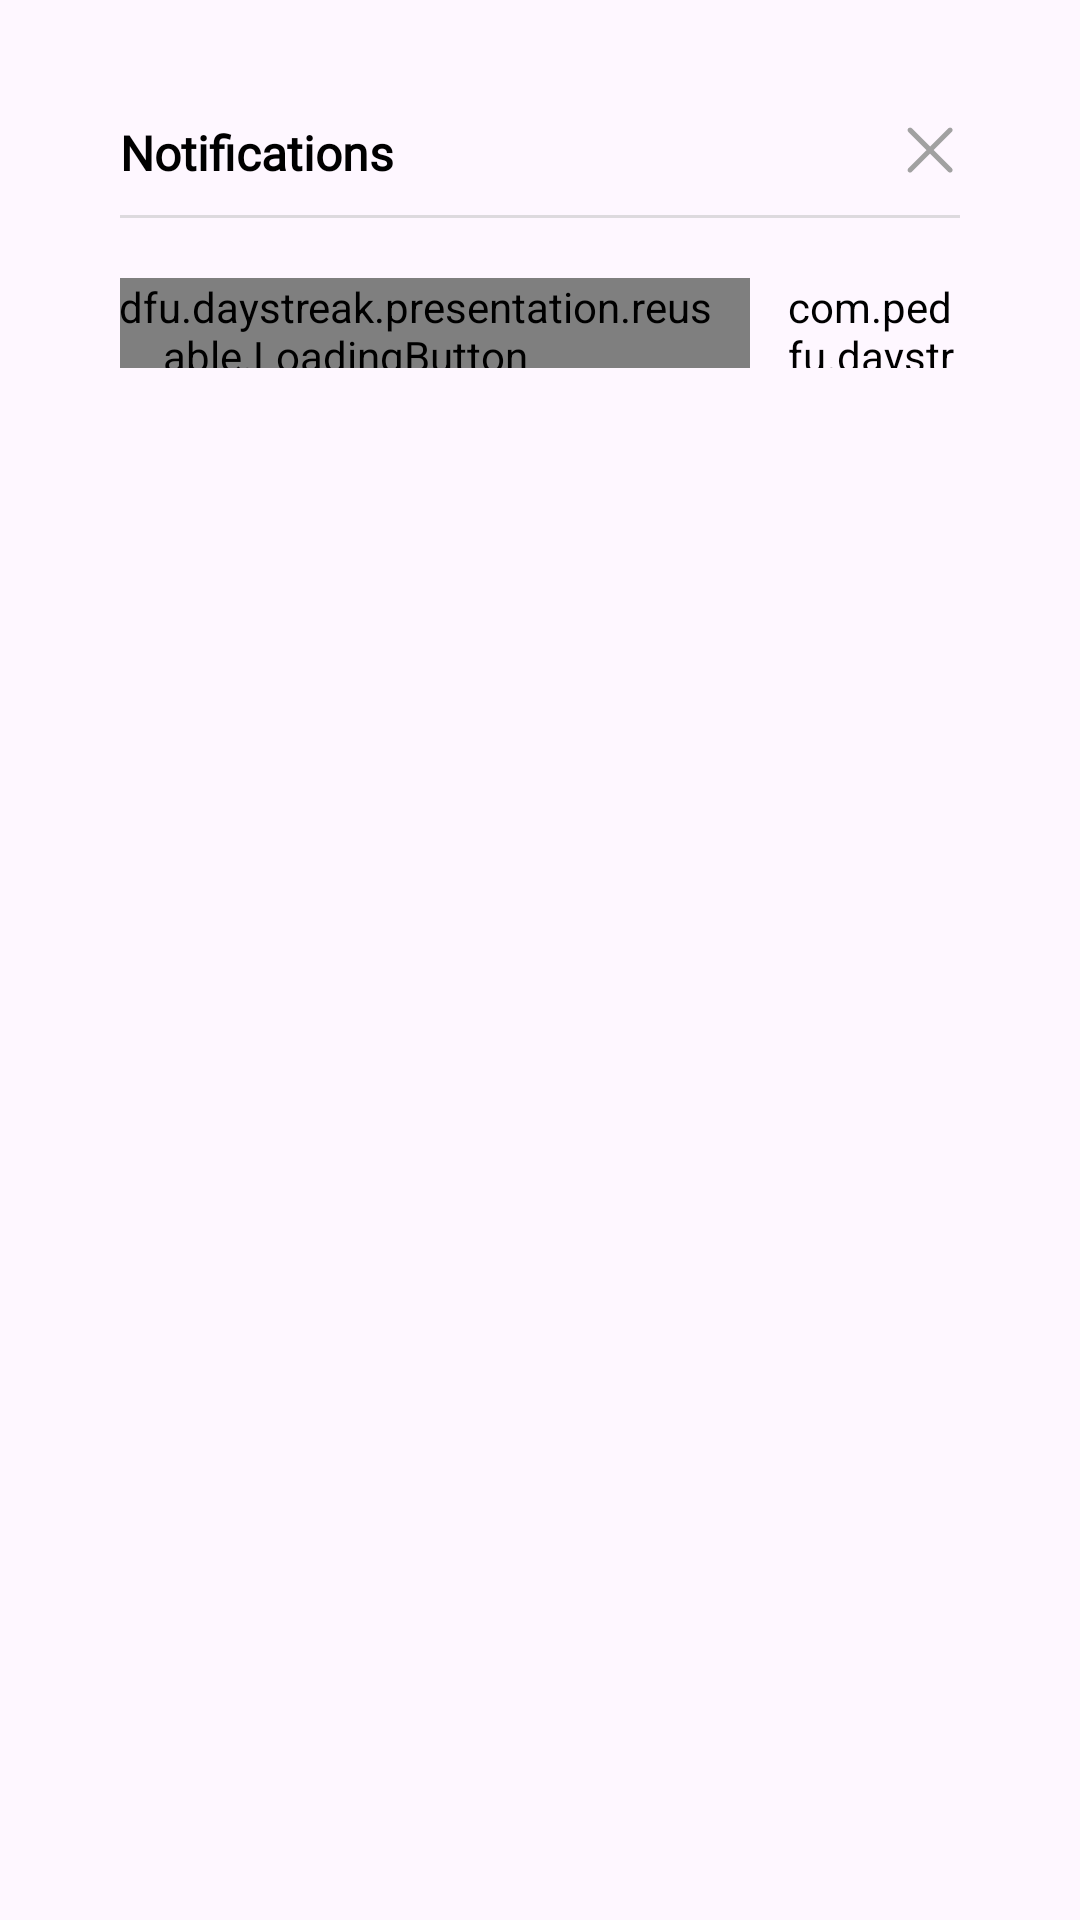

Screen size 1080 x 1920. Icon name, then its box in pixels as detection(x1, y1, x2, y2):
close: detection(907, 127, 953, 173)
